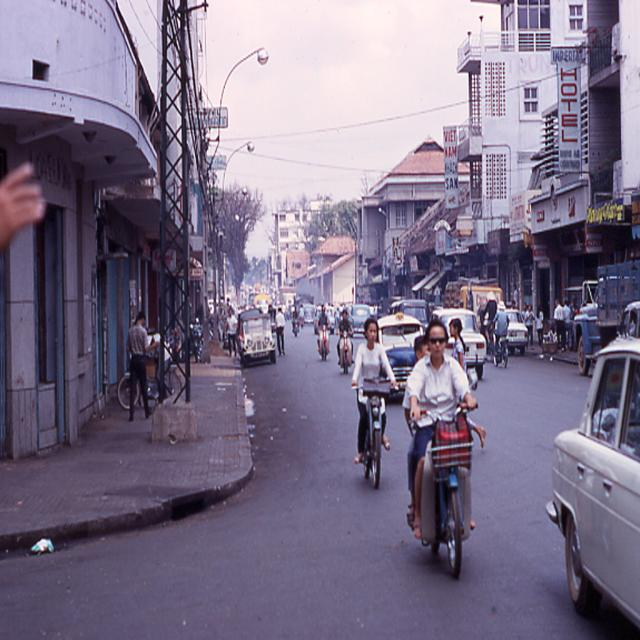car: (236, 307, 277, 359)
